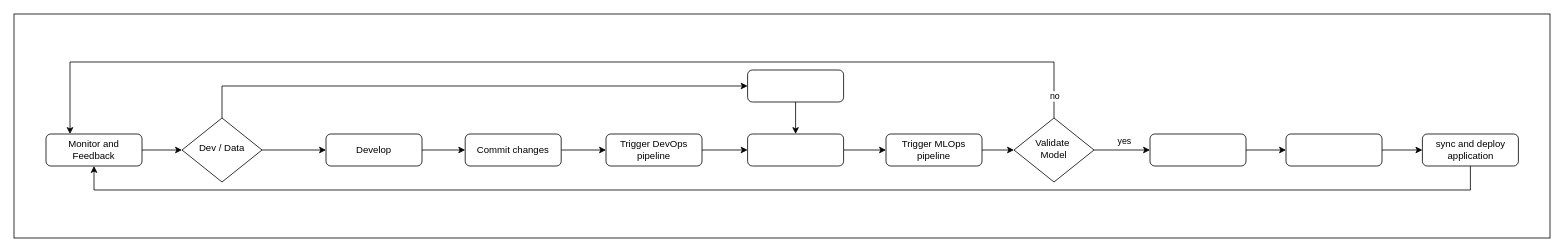
Some shapes in this 1564 by 252 pixel diagram are drawn without their labels. The centre of each missing label's shape, as x and y in pixels:
New Data available: point 795,85
Push application config changes to git: point 1333,149
Release Model and Metadata: point 1197,149
Trigger DataOps pipeline: point 795,149
